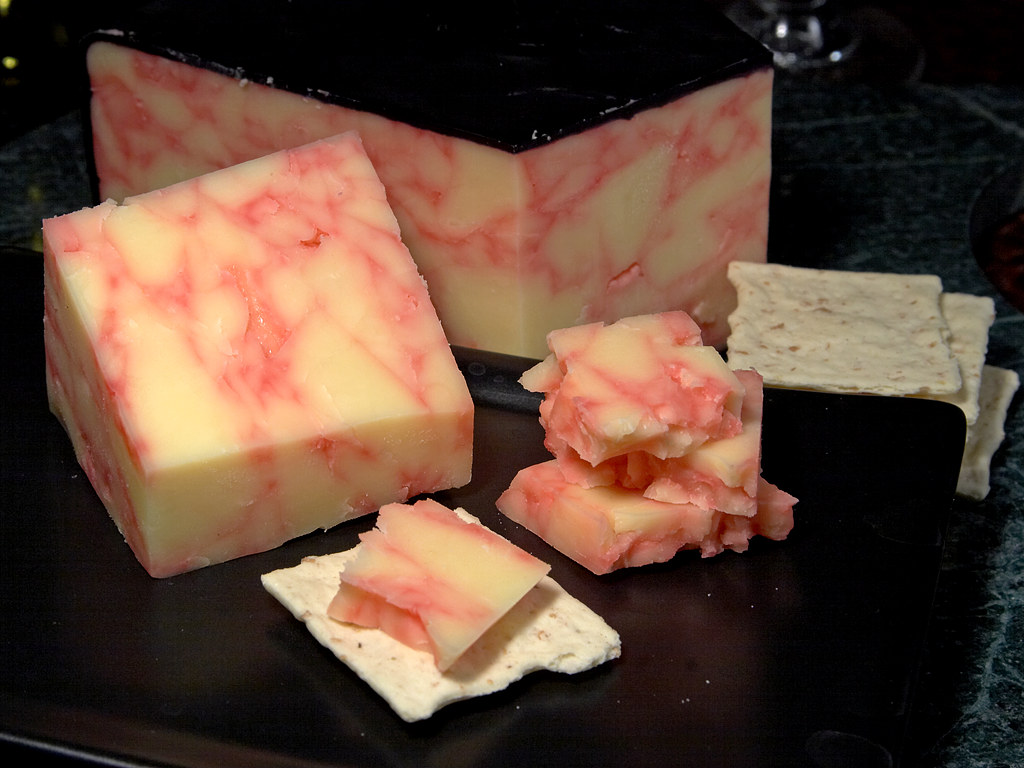cheese: (35, 195, 456, 517), (521, 317, 770, 581)
